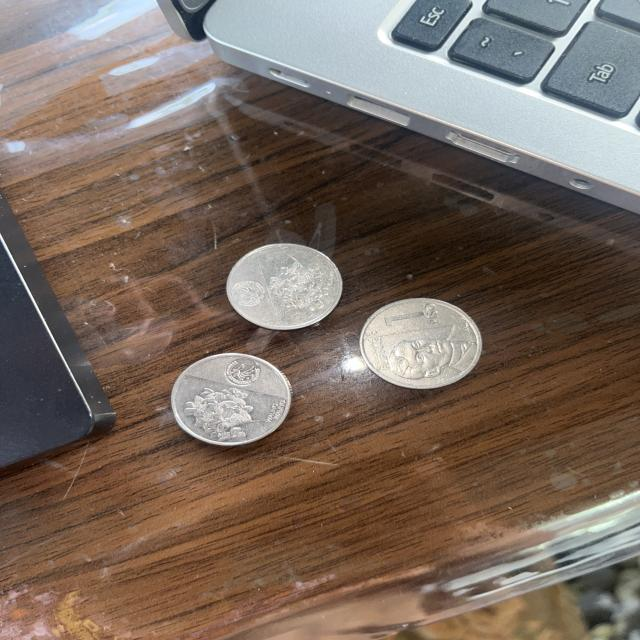1_New_Back: (180, 379, 276, 446)
1_New_Front: (375, 301, 463, 333)
